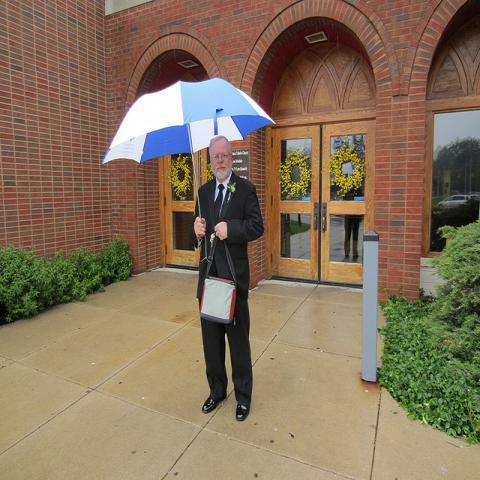car: (437, 194, 471, 210)
